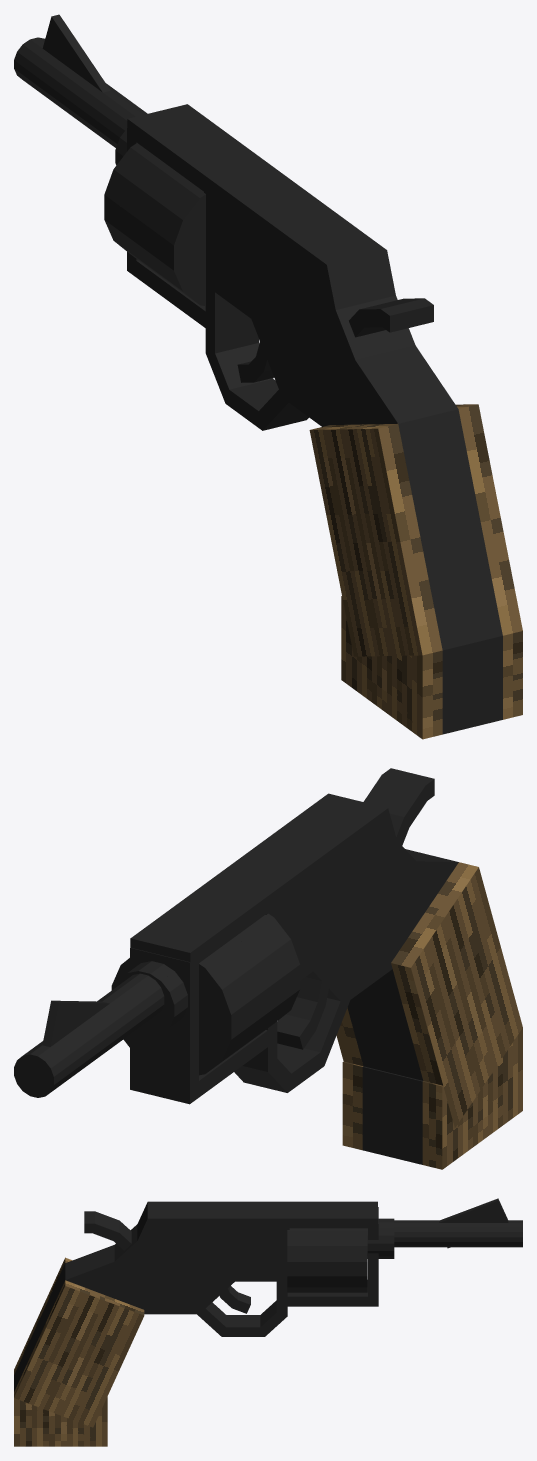
Rendered from gun.gltf.
3 views of the same model, one above another, from view 1: azimuth 30°, elevation 25°; view 2: azimuth 150°, elevation 25°; view 3: azimuth 270°, elevation 25° (orthographic). The views are drawn at different scales.
Parts seen in each view (by area): view 1: cube; view 2: cube; view 3: cube.
Part boxes in pixels (x1,y1,x2,y2): cube: (14,14,522,739); cube: (14,768,522,1169); cube: (14,1198,522,1446).
Bounding box in the file's own units: 0.0938 × 0.3005 × 0.5938.
2 materials, 2 textured.
